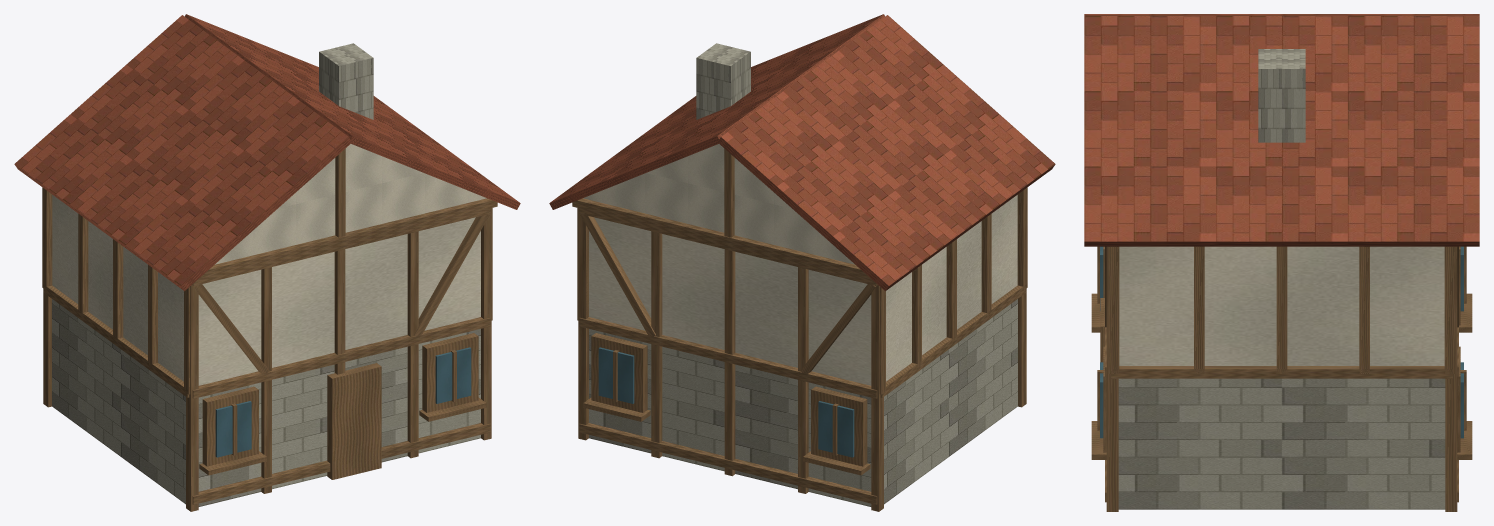
3 renders of one model, left to right at view 1: azimuth 30°, elevation 25°; view 2: azimuth 150°, elevation 25°; view 3: azimuth 270°, elevation 25°, orthographic. The views are drawn at different scales.
Parts seen in each view (by area): view 1: house-roof, house-wood, house-plaster, house-stone, house-glass; view 2: house-roof, house-plaster, house-wood, house-stone, house-glass; view 3: house-roof, house-stone, house-plaster, house-wood, house-glass.
Part boxes in pixels (x1,y1,x2,y2): house-roof: (14, 14, 520, 291); house-wood: (42, 148, 497, 511); house-plaster: (52, 144, 486, 385); house-stone: (52, 43, 480, 506); house-glass: (215, 347, 471, 457); house-roof: (549, 14, 1055, 291); house-plaster: (583, 144, 1017, 385); house-wood: (572, 148, 1027, 511); house-stone: (589, 43, 1017, 506); house-glass: (598, 347, 854, 457); house-roof: (1084, 14, 1479, 246); house-stone: (1118, 49, 1445, 509); house-plaster: (1119, 246, 1444, 365); house-wood: (1091, 246, 1472, 511); house-glass: (1100, 246, 1463, 438).
Bounding box in the file's own units: 7.88 × 7.7 × 6.7.
5 materials, 5 textured.
